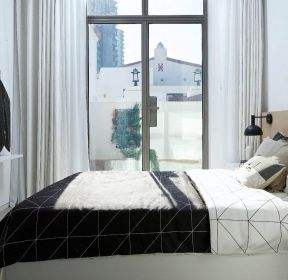床: (14, 165, 288, 263)
枕头: (230, 144, 286, 190)
灯: (238, 109, 275, 140)
